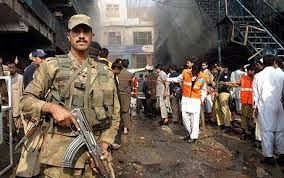gun: (56, 99, 108, 170), (15, 113, 46, 150)
uniform: (39, 51, 115, 168)
